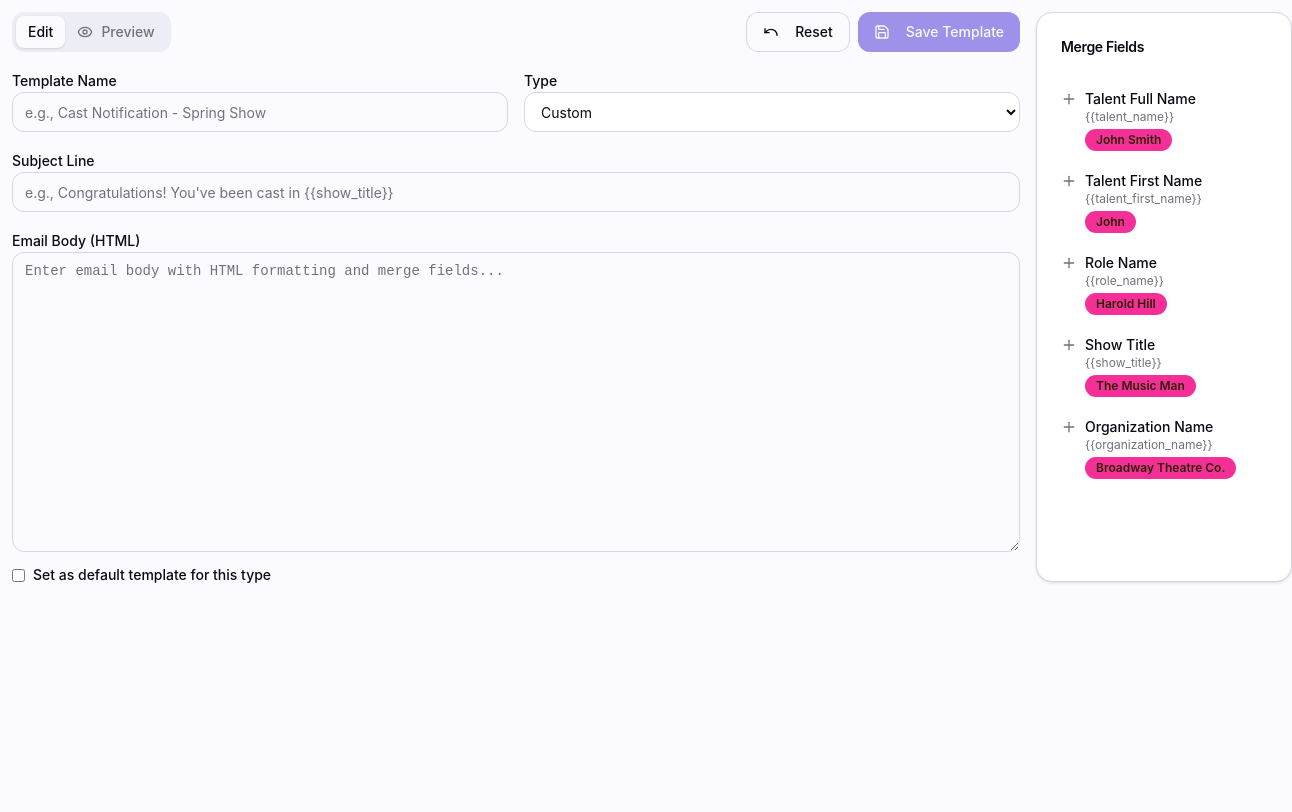
EmailTemplateEditor › should enable save button when all required fields are filled
Type "Name" into the field labelled "Template Name" at point(260, 112), box [12, 92, 508, 132]
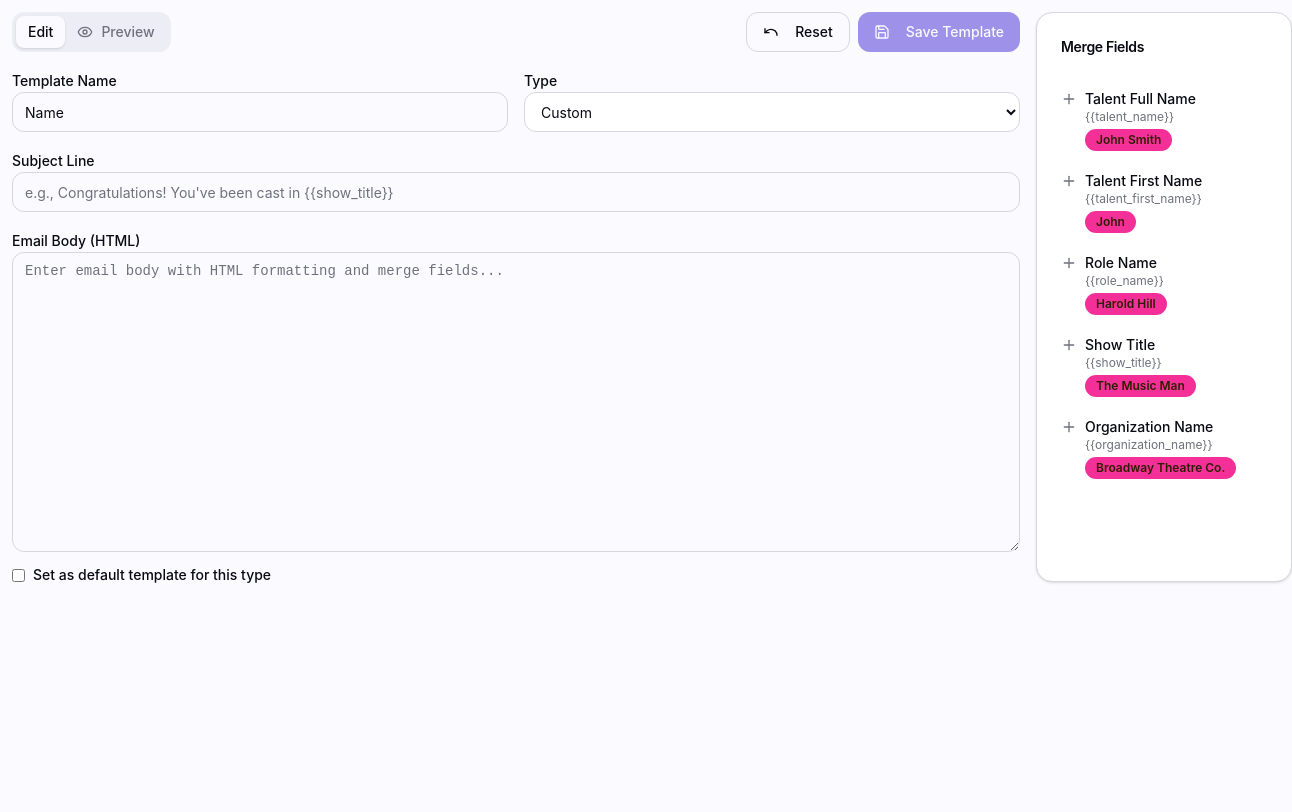
Type "Subject" into the field labelled "Subject Line" at point(516, 192), box [12, 172, 1020, 212]
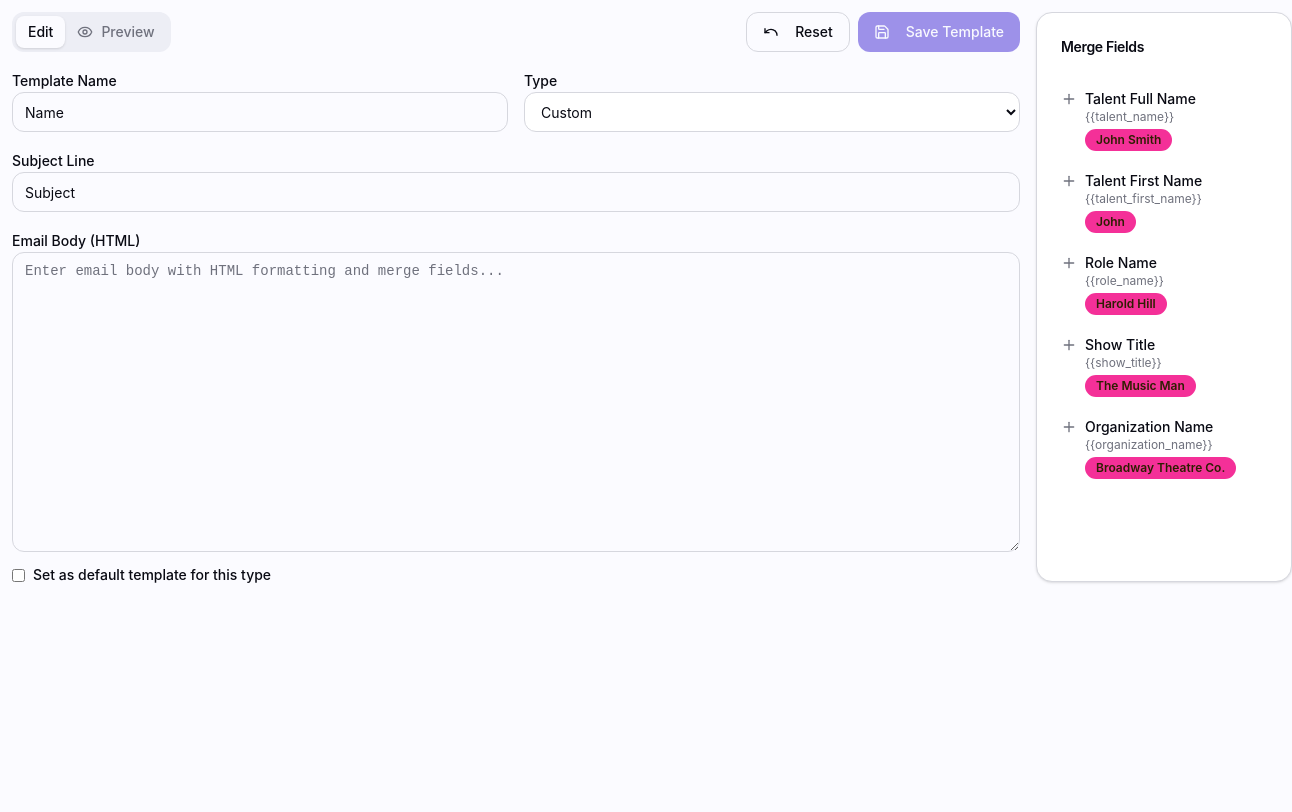
Type "Body" into the text box labelled "Email Body (HTML)" at point(516, 402), box [12, 252, 1020, 552]
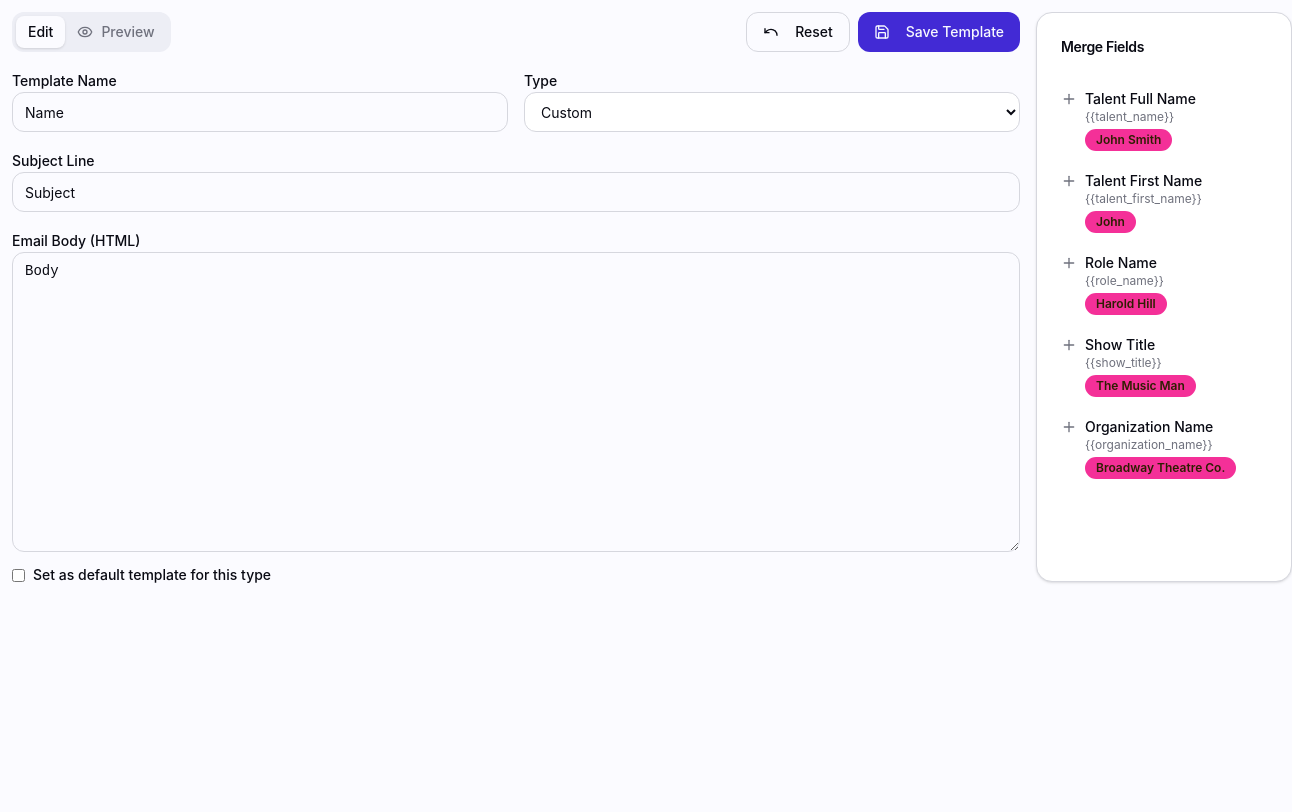
Check: the button "Save Template" is enabled, box [858, 12, 1020, 52]
